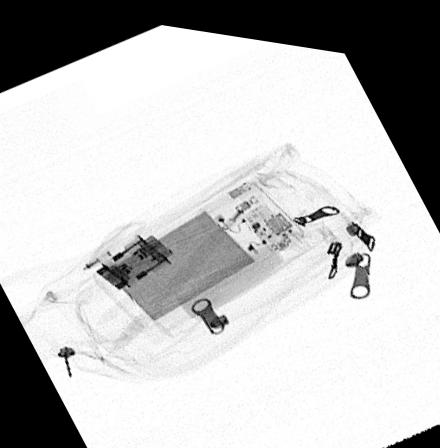Powerbank: (90, 170, 303, 326)
